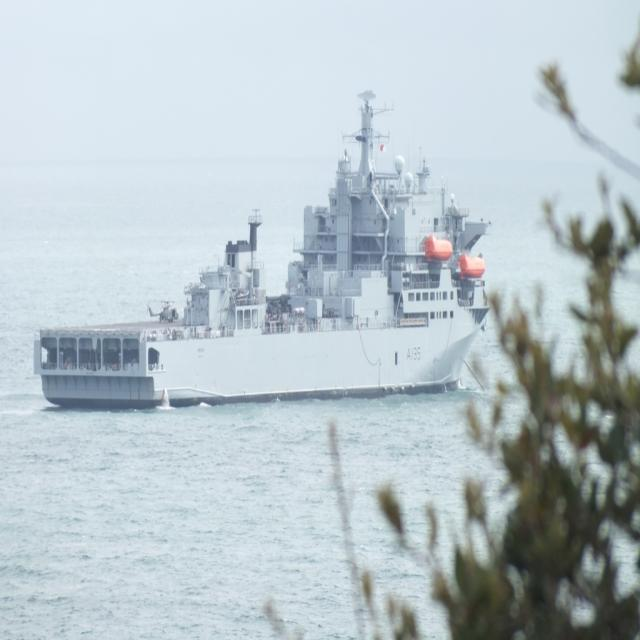Boat: (44, 70, 494, 403)
